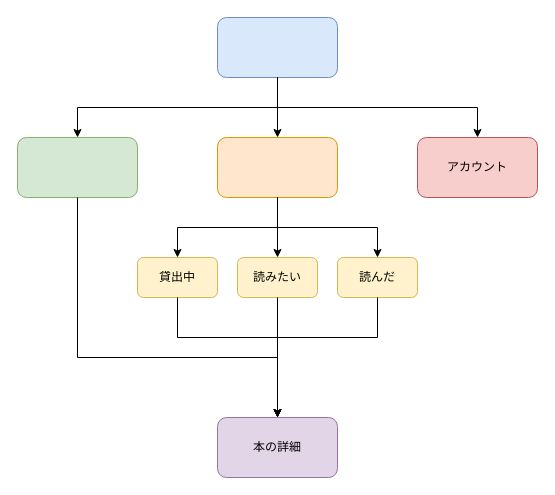
The diagram is 555 pixels wide and 495 high, and some of its shapes have lost their labels. Here are the shapes that lost their labels. From the top down, the box of each, then its label:
(216, 16, 338, 78): ホーム
(16, 136, 138, 198): 本を検索
(216, 136, 338, 198): マイライブラリ
